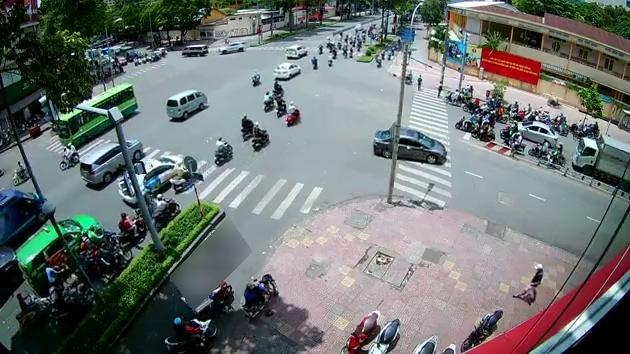xe buyt: (53, 82, 137, 142)
xe hoi: (16, 213, 96, 284), (118, 155, 183, 204), (371, 125, 446, 164), (78, 140, 140, 183), (517, 120, 559, 147), (272, 62, 300, 79)
xe may: (204, 229, 238, 269), (115, 209, 147, 247), (198, 273, 231, 307), (151, 192, 179, 225), (57, 140, 80, 170), (250, 119, 269, 150), (214, 135, 232, 166), (11, 160, 31, 185), (240, 112, 255, 141), (283, 100, 299, 126), (262, 90, 274, 112)
xe tai: (569, 131, 630, 183)
xe van: (165, 88, 206, 118)
